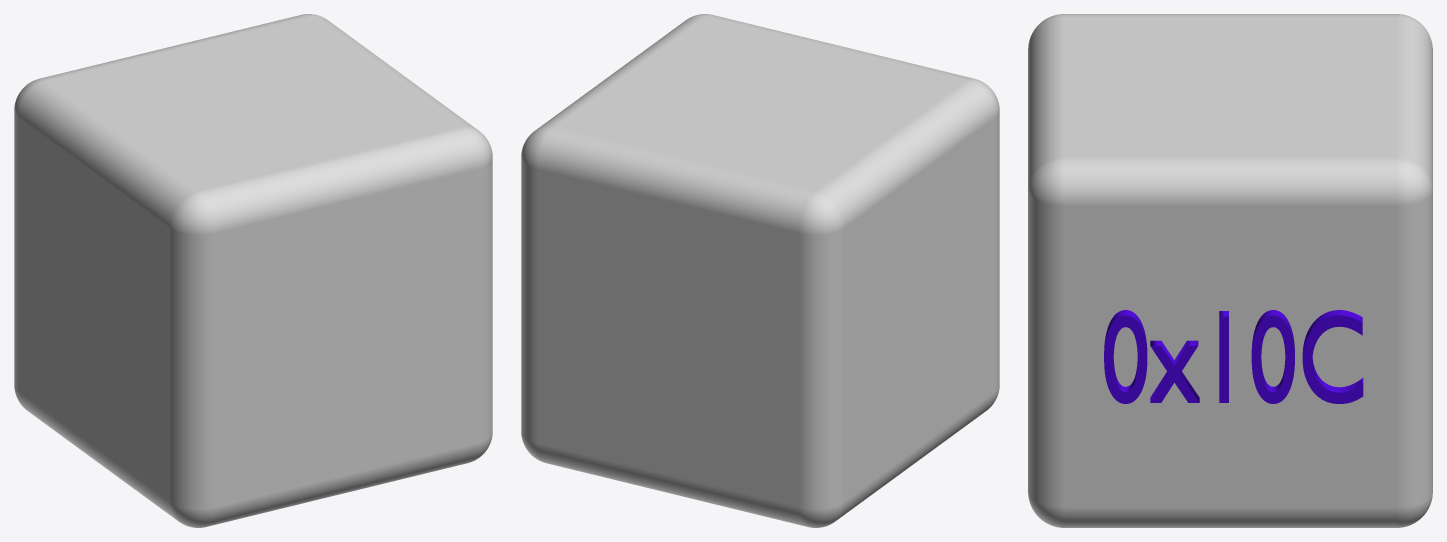
File: Instr12.fbx
3 renders of one model, left to right at view 1: azimuth 30°, elevation 25°; view 2: azimuth 150°, elevation 25°; view 3: azimuth 270°, elevation 25°, orthographic. The views are drawn at different scales.
Parts seen in each view (by area): view 1: Cube; view 2: Cube; view 3: Cube, Text.
Part boxes in pixels (x1,y1,x2,y2): Cube: (14, 14, 492, 527); Cube: (521, 14, 999, 527); Cube: (1028, 14, 1432, 527); Text: (1104, 310, 1363, 403).
Bounding box in the file's own units: 69.29 × 67.15 × 67.15.
